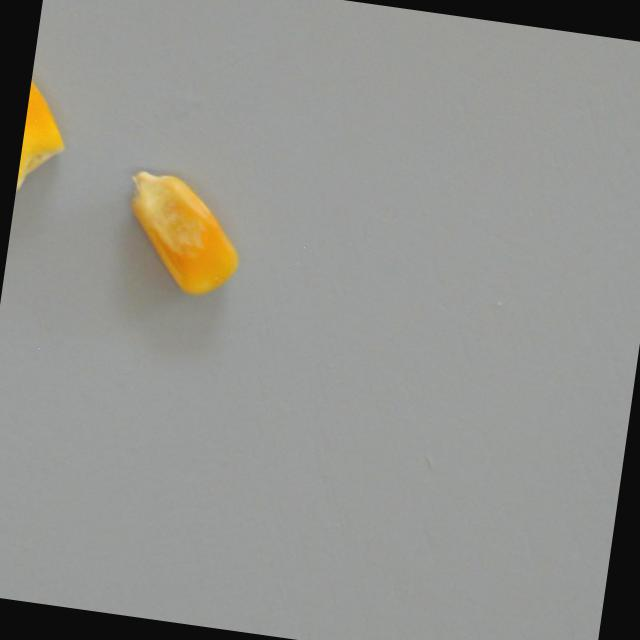entero: (111, 163, 254, 306)
no_canjicado: (14, 69, 75, 204)
